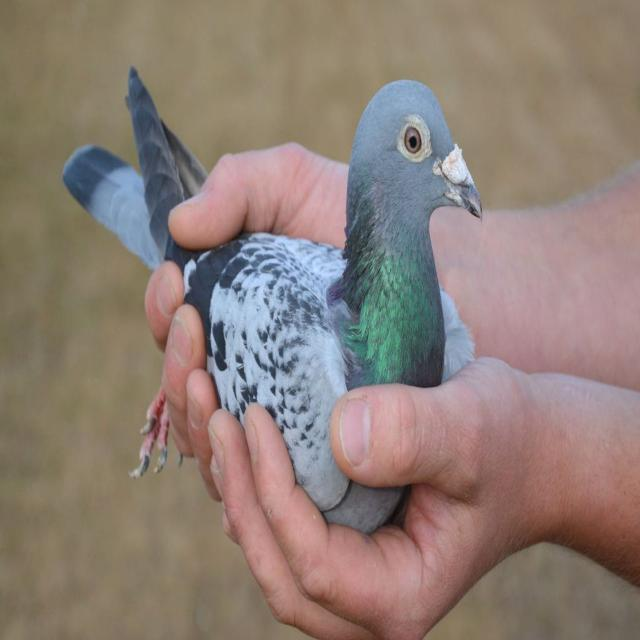Pigeon: (58, 49, 488, 530)
